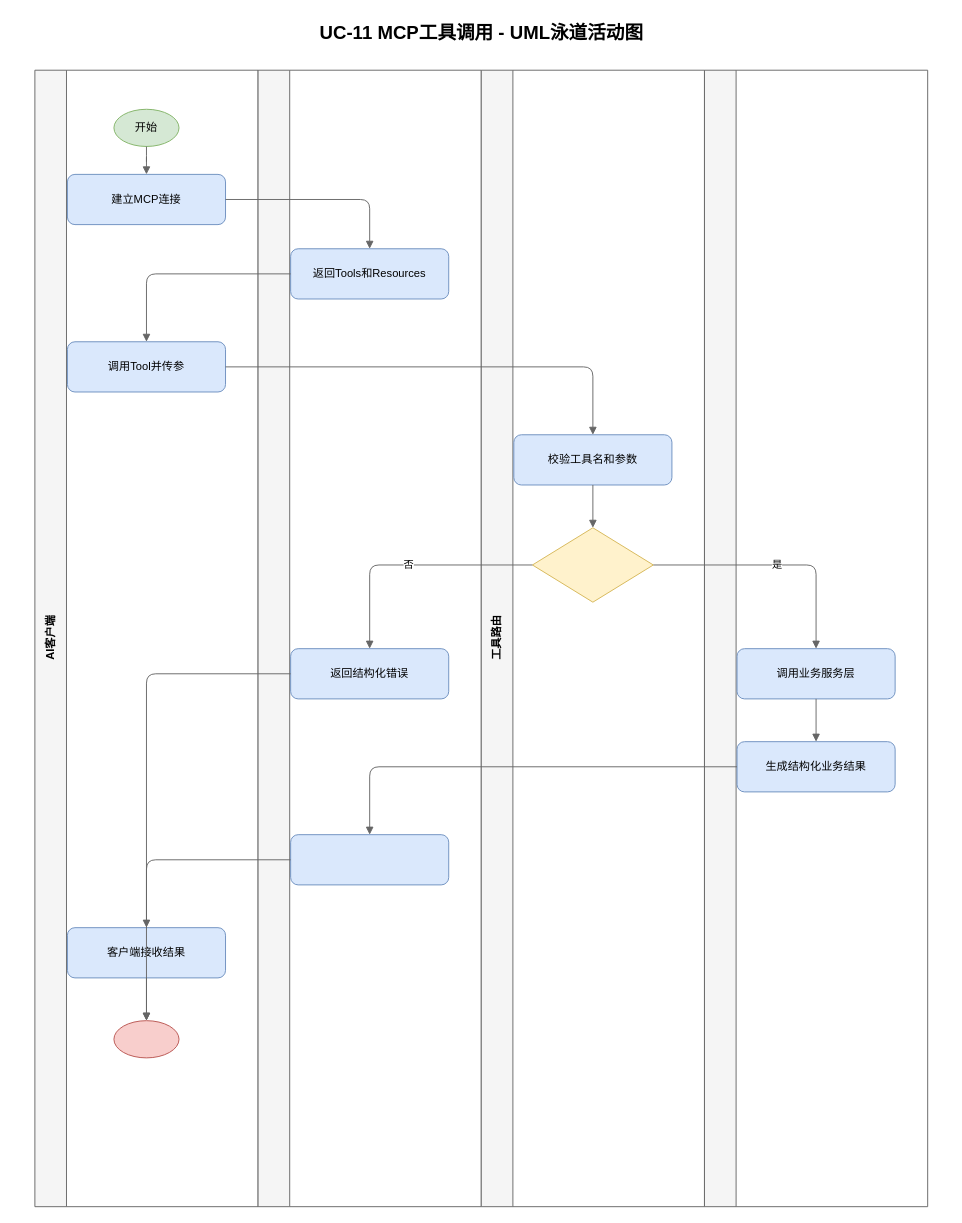
Image size: 962x1223. Some labels were removed from this diagram. Each missing label, with the box of its shape:
MCP Server: (257, 69, 481, 1207)
参数有效?: (531, 527, 653, 602)
后端服务层: (704, 69, 928, 1207)
封装MCP响应: (290, 834, 449, 885)
结束: (113, 1020, 179, 1058)
